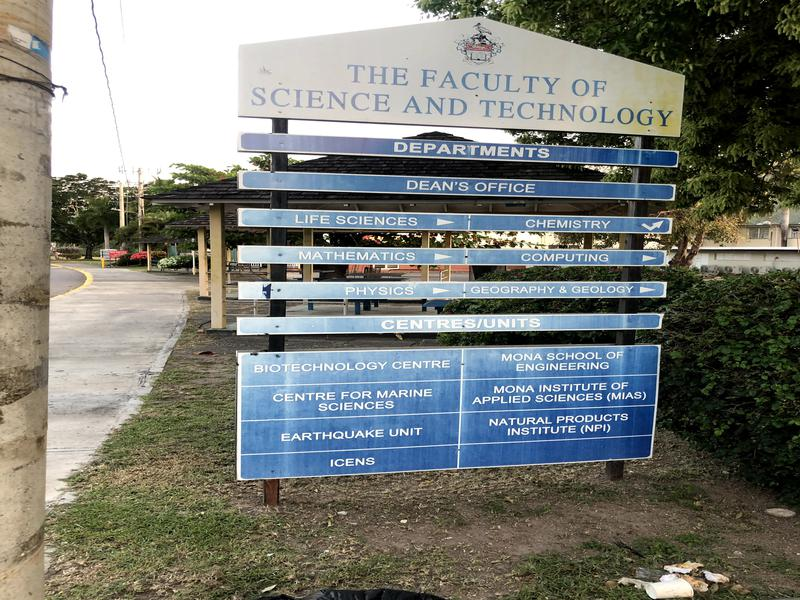18.0055634_-76.7484079_scitechsign: (218, 11, 697, 489)
